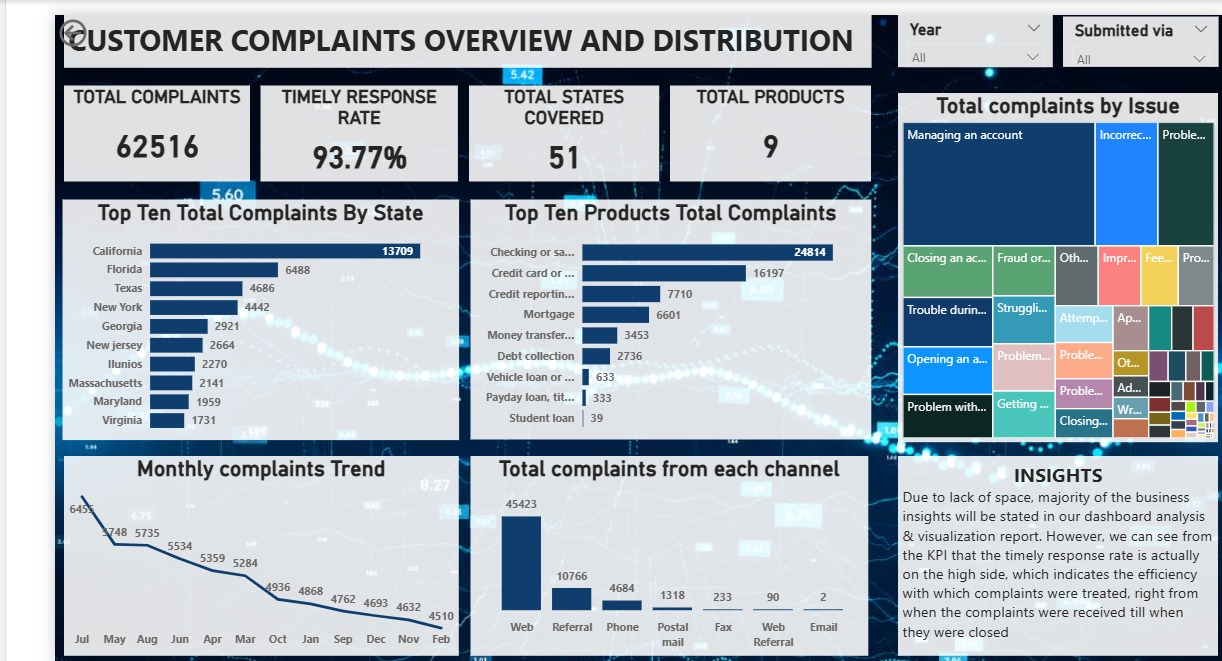

This screenshot's page, from the dashboard's own definition file:
{"tool":"powerbi","page":{"name":"CUSTOMER COMPLAINTS OVERVIEW AND DISTRIBUTION","canvas":[1300,720],"ordinal":0},"visuals":[{"type":"textbox","box":[10,0,888.3,58.3],"z":0},{"type":"card","title":"Total Complaints","fields":{"Values":["CountNonNull(Table1.Complaint ID)"]},"box":[10,78.3,215,95],"z":1000},{"type":"actionButton","box":[0,0,100,40],"z":2000},{"type":"card","title":"Timely Response Rate","fields":{"Values":["DAX Measures.Timely Response Rate"]},"box":[234.4,78.3,215,95],"z":3000},{"type":"card","title":"Total States Covered","fields":{"Values":["DAX Measures.Total states Covered"]},"box":[458.9,78.3,215,95],"z":4000},{"type":"card","title":"Count Of Products","fields":{"Values":["DAX Measures.TOTAL PRODUCTS"]},"box":[683.3,78.3,215,95],"z":5000},{"type":"barChart","title":"Top Ten Total Complaints By State","fields":{"Category":["Table1.State"],"Y":["DAX Measures.Total complaints"]},"box":[8.3,188.3,440,263.3],"z":6000},{"type":"barChart","title":"Top Ten Products Total Complaints","fields":{"Y":["DAX Measures.Total complaints"],"Category":["Table1.Product"]},"box":[458.3,188.3,440,263.3],"z":7000},{"type":"columnChart","title":"Total complaints from each channel","fields":{"Category":["Table1.Submitted via"],"Y":["DAX Measures.Total complaints"]},"box":[458.3,471.7,440,240],"z":8000},{"type":"slicer","fields":{"Values":["CALENDER.YEAR"]},"box":[910,0,187,58.3],"z":9000},{"type":"slicer","fields":{"Values":["Table1.Submitted via"]},"box":[1113.3,0,186.7,58.3],"z":10000},{"type":"treemap","fields":{"Group":["Table1.Issue"],"Values":["DAX Measures.Total complaints"]},"box":[910,78.3,388.3,373.3],"z":11000},{"type":"lineChart","title":"Monthly complaints Trend","fields":{"Y":["DAX Measures.Total complaints"],"Category":["CALENDER.MONTH NAME"]},"box":[10,470,438.3,241.7],"z":12000},{"type":"textbox","box":[910,470,388.3,241.7],"z":13000}]}

Visuals, with their boxes in screenshot pixels (x1, y1, x2, y2), scaled from the page's 1300x720 canvas onto the 1222x661 screenshot:
textbox: <region>9, 0, 844, 54</region>
"Total Complaints" card: <region>9, 72, 212, 159</region>
actionButton: <region>0, 0, 94, 37</region>
"Timely Response Rate" card: <region>220, 72, 422, 159</region>
"Total States Covered" card: <region>431, 72, 633, 159</region>
"Count Of Products" card: <region>642, 72, 844, 159</region>
"Top Ten Total Complaints By State" barChart: <region>8, 173, 421, 415</region>
"Top Ten Products Total Complaints" barChart: <region>431, 173, 844, 415</region>
"Total complaints from each channel" columnChart: <region>431, 433, 844, 653</region>
slicer - CALENDER.YEAR: <region>855, 0, 1031, 54</region>
slicer - Table1.Submitted via: <region>1047, 0, 1221, 54</region>
treemap - Table1.Issue x DAX Measures.Total complaints: <region>855, 72, 1220, 415</region>
"Monthly complaints Trend" lineChart: <region>9, 431, 421, 653</region>
textbox: <region>855, 431, 1220, 653</region>
